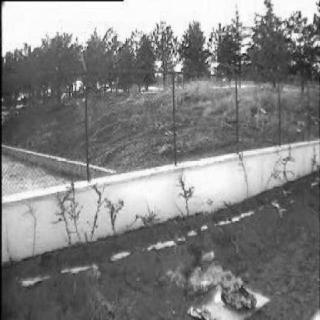Fire: (162, 222, 264, 316)
